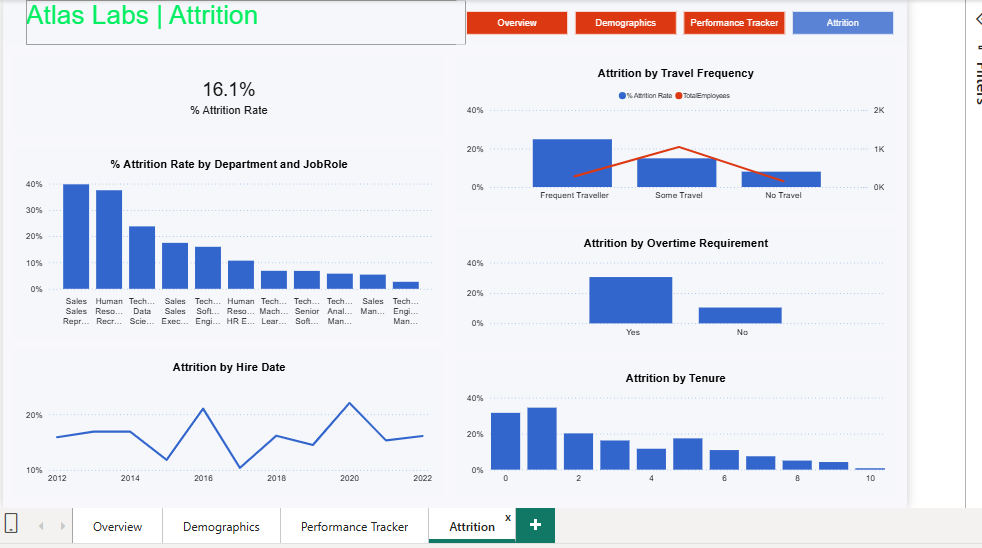

Layout of this report page (visuals, bound fields, positions):
{"tool":"powerbi","page":{"name":"Attrition","canvas":[1280,720],"ordinal":3},"visuals":[{"type":"card","fields":{"Values":["_Measures.% Attrition Rate"]},"box":[16,80,608,112],"z":0},{"type":"columnChart","fields":{"Category":["DimEmployee.Department","DimEmployee.JobRole"],"Y":["_Measures.% Attrition Rate"]},"box":[16,208,608,272],"z":1000},{"type":"lineChart","title":"Attrition by Hire Date","fields":{"Y":["_Measures.% Attrition Rate Date"],"Category":["DimDate.Date.Variation.Date Hierarchy.Year","DimDate.Date.Variation.Date Hierarchy.Quarter","DimDate.Date.Variation.Date Hierarchy.Month","DimDate.Date.Variation.Date Hierarchy.Day"]},"box":[16,496,608,208],"z":2000},{"type":"lineStackedColumnComboChart","title":"Attrition by Travel Frequency","fields":{"Y":["_Measures.% Attrition Rate"],"Category":["DimEmployee.BusinessTravel"],"Y2":["_Measures.TotalEmployees"]},"box":[640,80,624,224],"z":3000},{"type":"columnChart","title":"Attrition by Overtime Requirement","fields":{"Category":["DimEmployee.OverTime"],"Y":["_Measures.% Attrition Rate"]},"box":[640,320,624,176],"z":4000},{"type":"columnChart","title":"Attrition by Tenure","fields":{"Category":["DimEmployee.YearsAtCompany"],"Y":["_Measures.% Attrition Rate"]},"box":[640,512,624,192],"z":5000},{"type":"shape","box":[0,0,1280,64],"z":6000},{"type":"textbox","box":[32,0,624,64],"z":7000},{"type":"pageNavigator","box":[640,0,640,64],"z":8000}]}

Visuals, with their boxes on the page's 1280x720 design canvas (x1, y1, x2, y2). These are canvas units, not pixel positions in the 982x548 screenshot, which may show the page scaled, cropped or inside an application window:
card - _Measures.% Attrition Rate: <bbox>16, 80, 624, 192</bbox>
columnChart - DimEmployee.Department x DimEmployee.JobRole: <bbox>16, 208, 624, 480</bbox>
"Attrition by Hire Date" lineChart: <bbox>16, 496, 624, 704</bbox>
"Attrition by Travel Frequency" lineStackedColumnComboChart: <bbox>640, 80, 1264, 304</bbox>
"Attrition by Overtime Requirement" columnChart: <bbox>640, 320, 1264, 496</bbox>
"Attrition by Tenure" columnChart: <bbox>640, 512, 1264, 704</bbox>
shape: <bbox>0, 0, 1280, 64</bbox>
textbox: <bbox>32, 0, 656, 64</bbox>
pageNavigator: <bbox>640, 0, 1280, 64</bbox>
